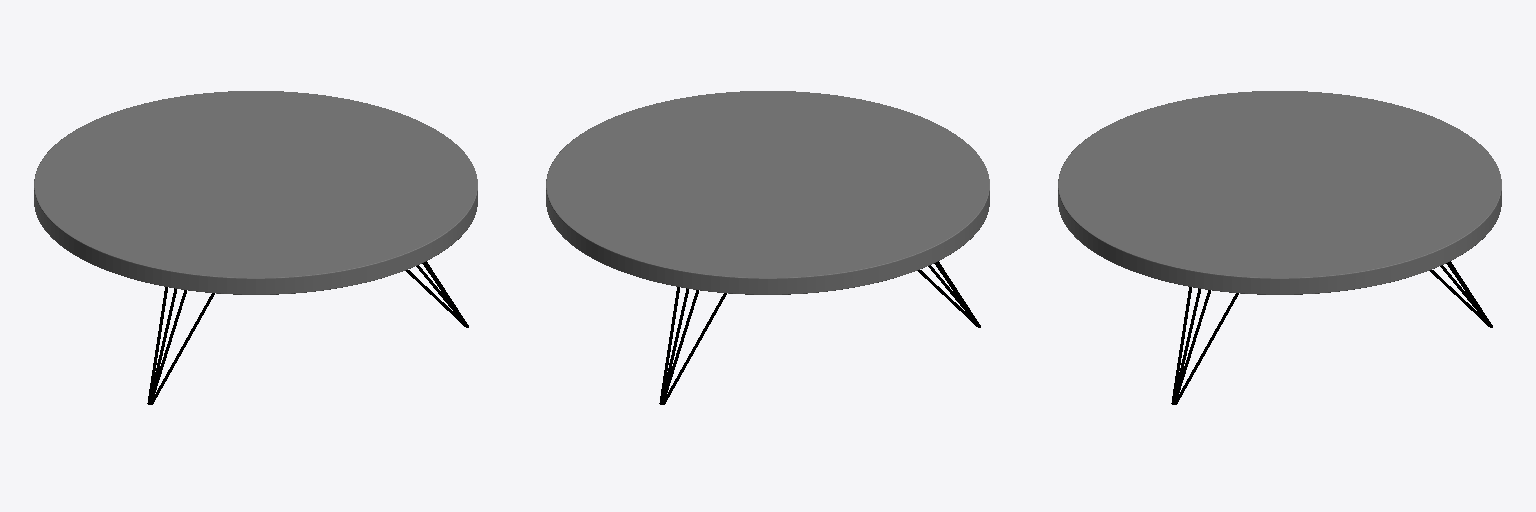
Rendered from MCRW5847_v6_LOD2.obj.
The picture shows the model from 3 angles: view 1: azimuth 30°, elevation 25°; view 2: azimuth 150°, elevation 25°; view 3: azimuth 270°, elevation 25°; orthographic projection.
Parts seen in each view (by area): view 1: not_clear_obj_0_v6, not_clear_obj_1_v6; view 2: not_clear_obj_0_v6, not_clear_obj_1_v6; view 3: not_clear_obj_0_v6, not_clear_obj_1_v6.
Boxes of the visible parts, x1,y1,x2,y2 form: not_clear_obj_0_v6: [34, 91, 477, 294]; not_clear_obj_1_v6: [147, 261, 468, 404]; not_clear_obj_0_v6: [546, 91, 989, 294]; not_clear_obj_1_v6: [659, 261, 980, 404]; not_clear_obj_0_v6: [1058, 91, 1501, 294]; not_clear_obj_1_v6: [1171, 261, 1492, 404].
Bounding box in the file's own units: 89.92 × 32 × 89.92.